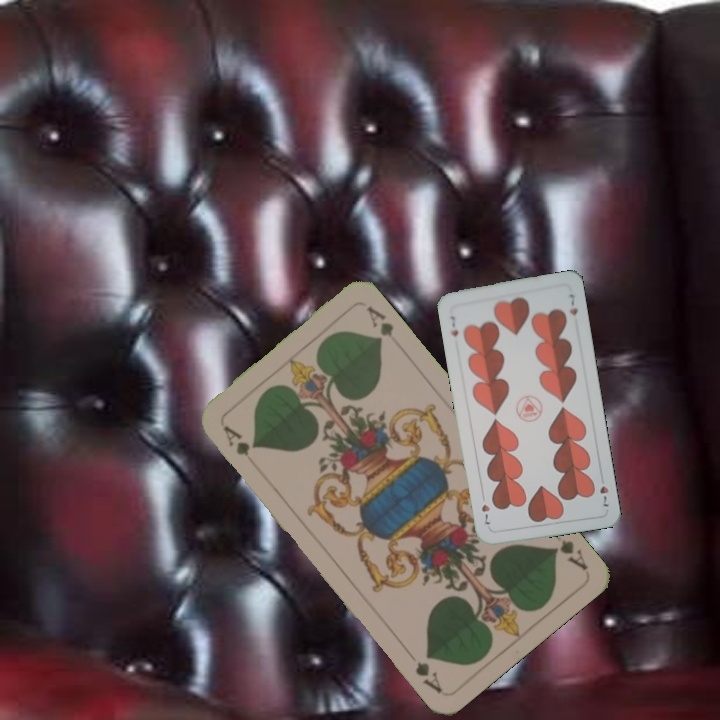GA: (219, 421, 257, 470), (548, 535, 590, 573)
H7: (596, 471, 611, 509), (446, 312, 461, 339)
